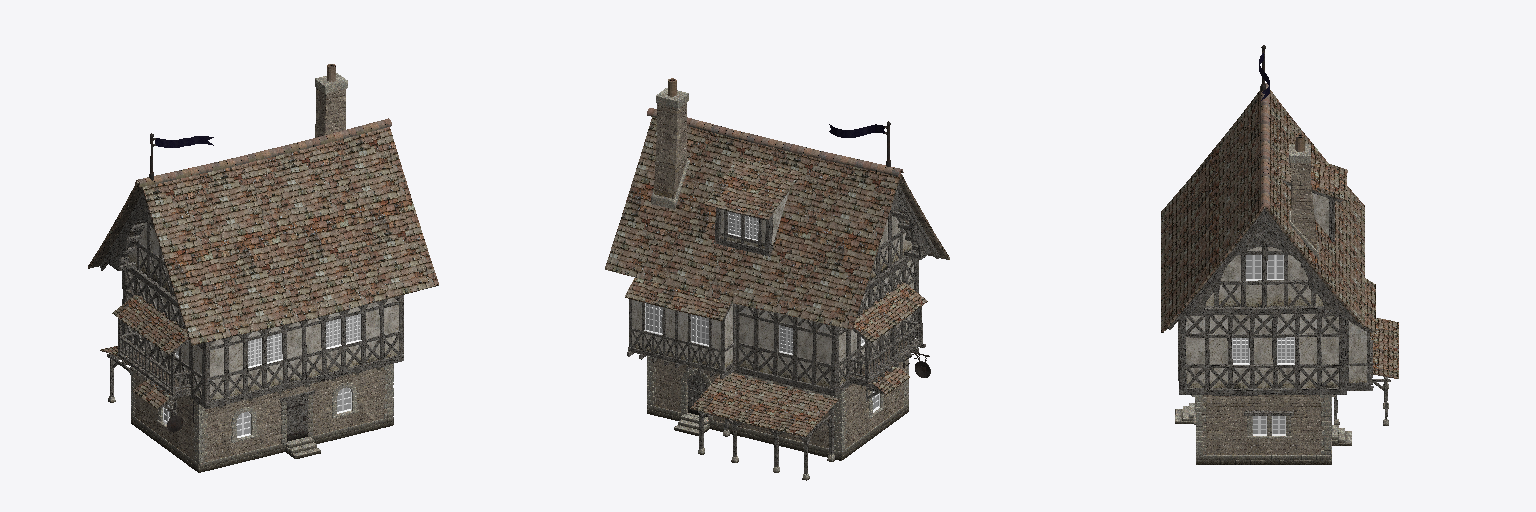
The picture shows the model from 3 angles: view 1: azimuth 30°, elevation 25°; view 2: azimuth 150°, elevation 25°; view 3: azimuth 270°, elevation 25°; orthographic projection.
Visible parts, largest first — view 1: WideRoofMiddle2, WideMiddle004, WideBase002, BalconyMedium001, Chimney005, AwningSmall003, FlagMonochrome002; view 2: WideRoofMiddle2, WideMiddle004, WideBase002, BayWindowMedium2, AwningGround002, DormerMedium1, BalconyMedium001, Chimney005, AwningSmall003, FlagMonochrome002; view 3: WideRoofMiddle2, WideMiddle004, WideBase002, DormerMedium1, Chimney005, BayWindowMedium2, AwningGround002.
Part boxes in pixels (left/top/right/bottom): WideRoofMiddle2: left=88, top=118, right=438, bottom=345; WideMiddle004: left=122, top=262, right=403, bottom=408; WideBase002: left=131, top=364, right=393, bottom=472; BalconyMedium001: left=112, top=295, right=190, bottom=399; Chimney005: left=315, top=64, right=347, bottom=137; AwningSmall003: left=133, top=379, right=176, bottom=414; FlagMonochrome002: left=149, top=133, right=213, bottom=180; WideRoofMiddle2: left=605, top=108, right=949, bottom=329; WideMiddle004: left=734, top=250, right=918, bottom=397; WideBase002: left=647, top=356, right=908, bottom=460; BayWindowMedium2: left=625, top=278, right=735, bottom=378; AwningGround002: left=690, top=373, right=838, bottom=480; DormerMedium1: left=705, top=156, right=801, bottom=256; BalconyMedium001: left=850, top=282, right=927, bottom=387; Chimney005: left=651, top=78, right=689, bottom=209; AwningSmall003: left=866, top=366, right=909, bottom=401; FlagMonochrome002: left=829, top=121, right=890, bottom=166; WideRoofMiddle2: left=1161, top=83, right=1364, bottom=332; WideMiddle004: left=1178, top=306, right=1346, bottom=396; WideBase002: left=1175, top=395, right=1351, bottom=464; DormerMedium1: left=1279, top=147, right=1347, bottom=241; Chimney005: left=1289, top=134, right=1318, bottom=259; BayWindowMedium2: left=1346, top=278, right=1375, bottom=390; AwningGround002: left=1334, top=318, right=1398, bottom=425.
Bounding box in the file's own units: 237 × 291 × 193.
Materials: 49 (10 with a texture image).